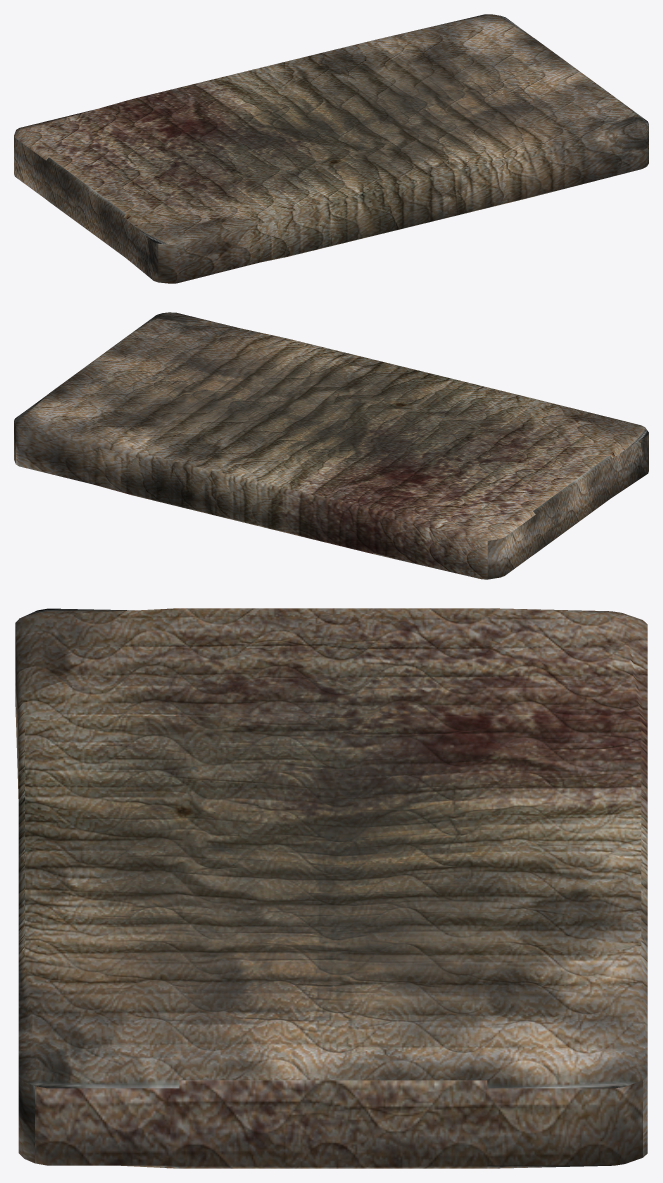
File: matras.FBX
The picture shows the model from 3 angles, top to bottom: view 1: azimuth 30°, elevation 25°; view 2: azimuth 150°, elevation 25°; view 3: azimuth 270°, elevation 25°; orthographic projection. The views are drawn at different scales.
Parts seen in each view (by area): view 1: Box001; view 2: Box001; view 3: Box001.
Boxes of the visible parts, box(x1,y1,x2,y2) form: Box001: box(14, 14, 648, 283); Box001: box(14, 312, 648, 579); Box001: box(15, 608, 647, 1168).
Size of the model in its own units: 1.82 by 0.1565 by 1.01.
1 material, 1 textured.
